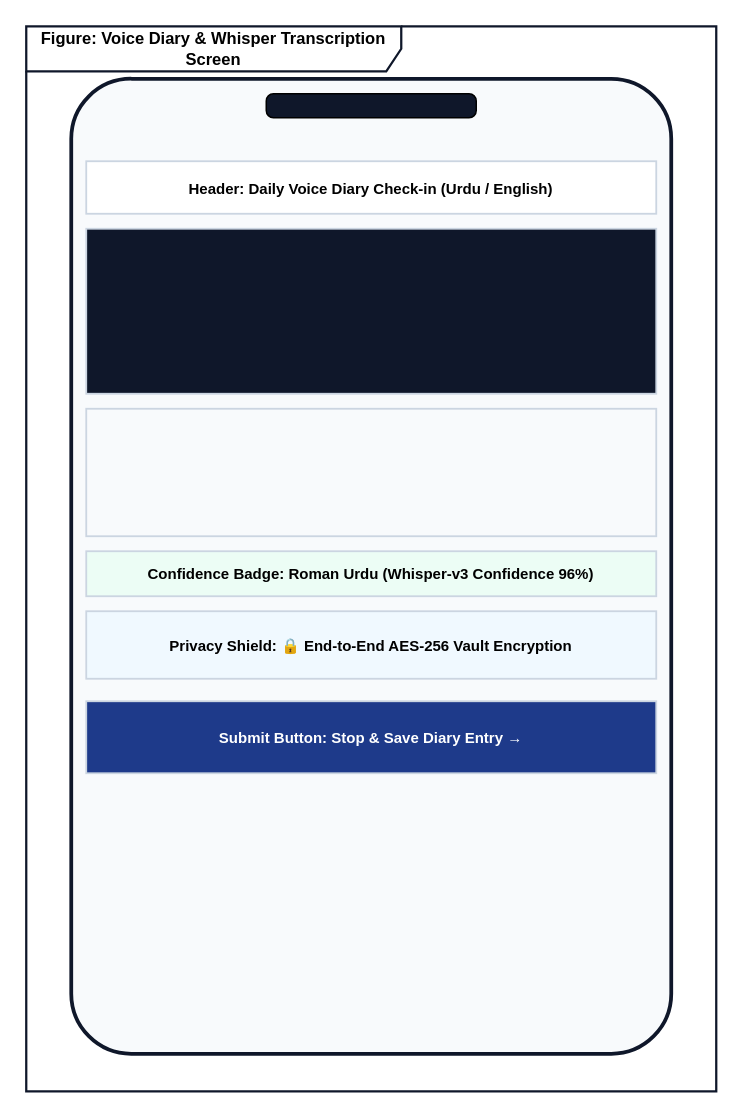
Image size: 744x1119. Some labels were removed from this diagram. Each missing label, with the centre of its shape:
"Audio Waveform Visualizer: RECORDING LIVE • 01:24 / 03:00" belongs at pixel 370 310.
"Live Whisper ASR: 'Aaj assignment ka kafi load tha, 4 ghante so saka'" belongs at pixel 370 471.
